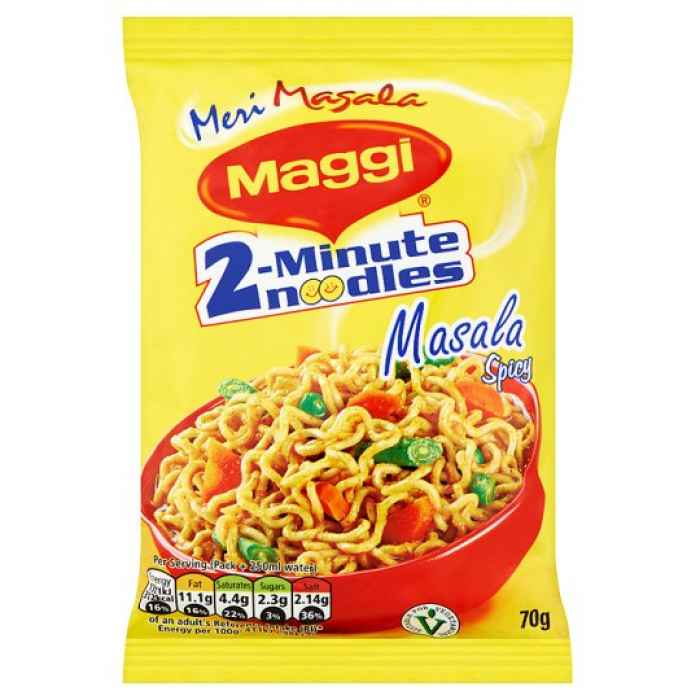maggi: (116, 13, 577, 688)
